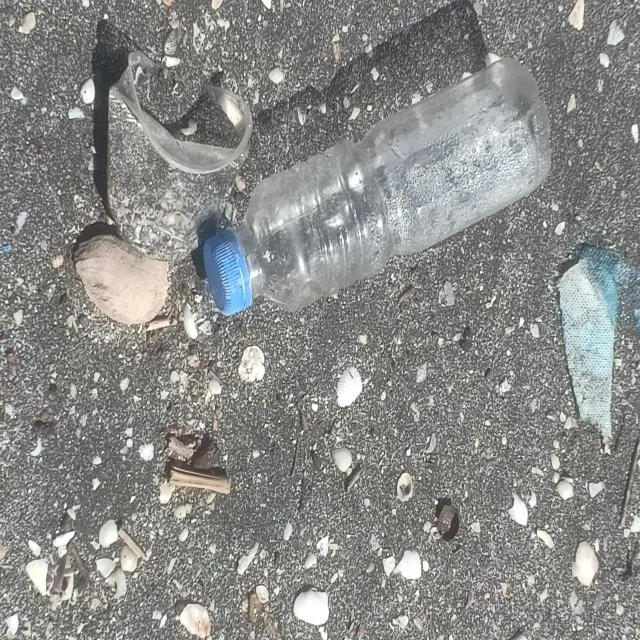plastic_waste: (203, 55, 555, 319), (106, 50, 256, 264)
